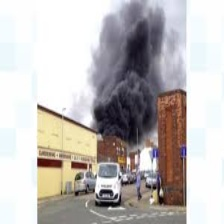smoke: (94, 9, 160, 135)
